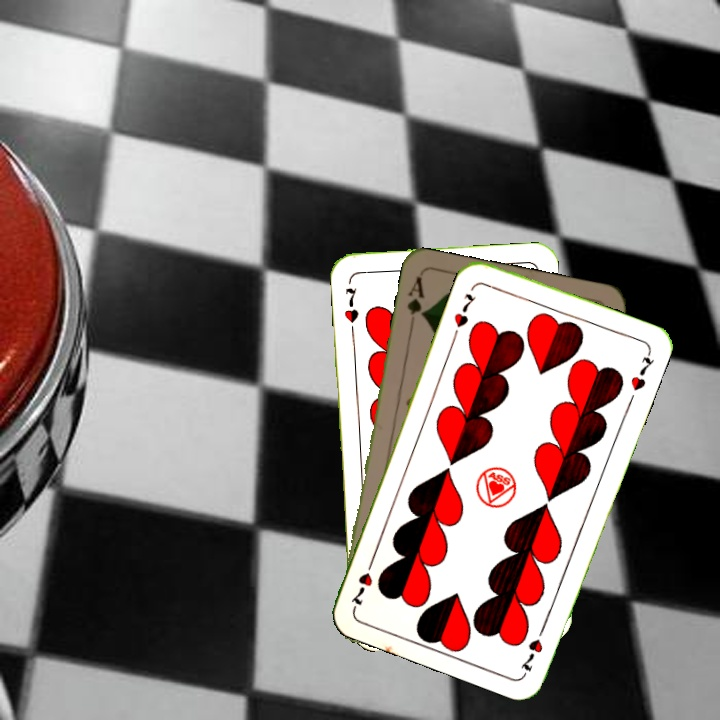GA: (403, 272, 428, 332)
H7: (516, 620, 549, 676), (450, 289, 479, 331), (340, 283, 361, 325)
